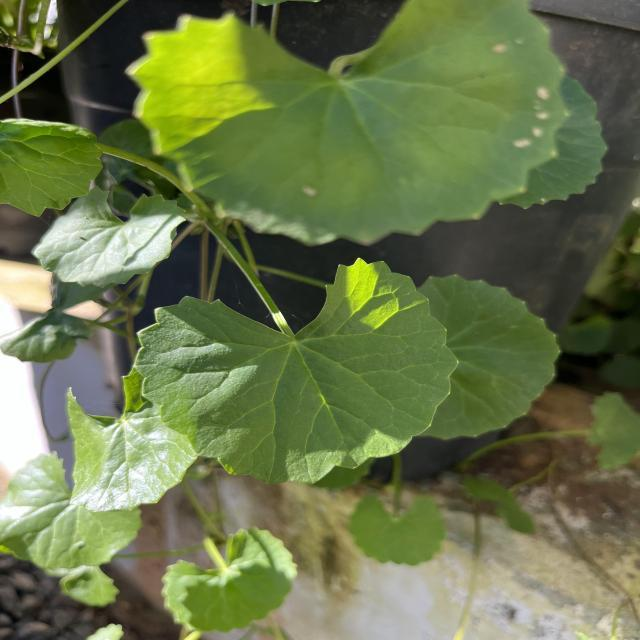Centella asiatica: (130, 255, 463, 488)
